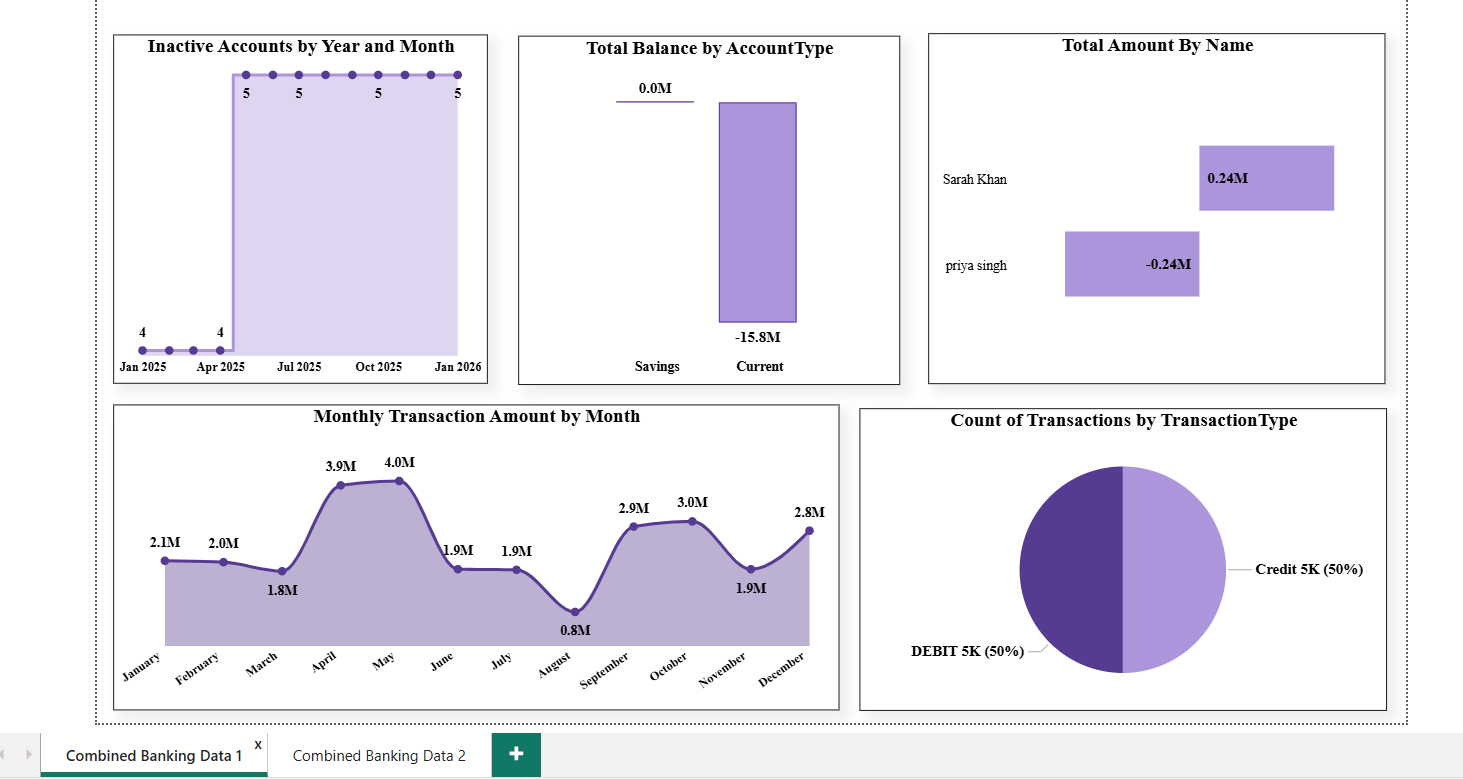

The dashboard page shown, as its layout file describes it:
{"tool":"powerbi","page":{"name":"Combined Banking Data 1","canvas":[1280,720],"ordinal":0},"visuals":[{"type":"pieChart","fields":{"Category":["CombinedBankingDataset.TransactionType"],"Y":["Measures Table.Count of Transactions"]},"box":[745.9,412.1,516,295.9],"z":0},{"type":"areaChart","fields":{"Y":["Measures Table.Monthly Transaction Amount"],"Category":["CombinedBankingDataset.TransactionDate.Variation.Date Hierarchy.Month"]},"box":[15.9,408.4,710.5,299.6],"z":1000},{"type":"barChart","title":"Total Amount By Name","fields":{"Category":["CombinedBankingDataset.Name"],"Y":["Sum(CombinedBankingDataset.Amount)"]},"box":[813.7,45.3,447.3,343.1],"z":2000},{"type":"clusteredColumnChart","fields":{"Category":["CombinedBankingDataset.AccountType"],"Y":["Measures Table.Total Balance"]},"box":[411.7,48,373.2,341.7],"z":3000},{"type":"lineChart","fields":{"Y":["Measures Table.Inactive Accounts"],"Category":["CombinedBankingDataset.TransactionDate.Variation.Date Hierarchy.Year","CombinedBankingDataset.TransactionDate.Variation.Date Hierarchy.Month"]},"box":[16.5,46.7,366.4,341.7],"z":3001}]}

Visuals, with their boxes in screenshot pixels (x1, y1, x2, y2):
pieChart - CombinedBankingDataset.TransactionType x Measures Table.Count of Transactions: l=857, t=408, r=1387, b=712
areaChart - Measures Table.Monthly Transaction Amount x CombinedBankingDataset.TransactionDate.Variation.Date Hierarchy.Month: l=108, t=404, r=837, b=712
"Total Amount By Name" barChart: l=927, t=31, r=1386, b=384
clusteredColumnChart - CombinedBankingDataset.AccountType x Measures Table.Total Balance: l=514, t=34, r=897, b=385
lineChart - Measures Table.Inactive Accounts x CombinedBankingDataset.TransactionDate.Variation.Date Hierarchy.Year: l=108, t=33, r=485, b=384
